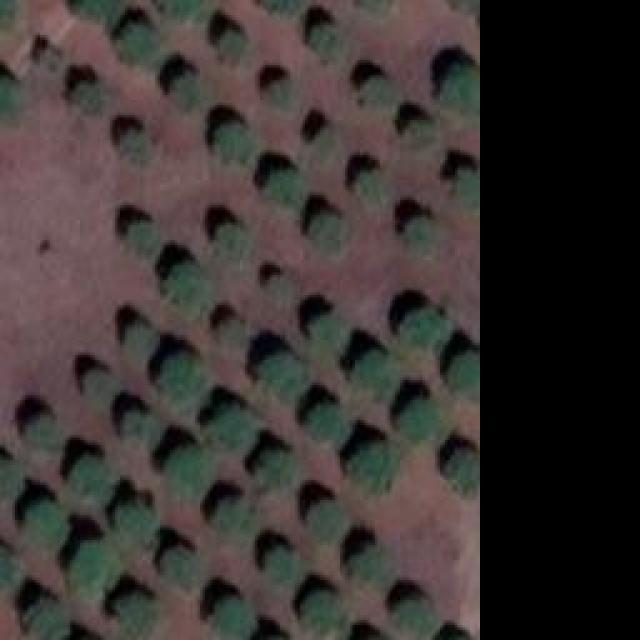Tree: (70, 540, 123, 593), (350, 350, 398, 398), (163, 353, 206, 406), (165, 262, 210, 310), (207, 408, 255, 453), (400, 308, 450, 351), (168, 448, 208, 501), (260, 355, 303, 403), (355, 445, 398, 490), (25, 505, 68, 548), (72, 457, 110, 505), (445, 443, 480, 493), (400, 400, 443, 440), (258, 453, 301, 493), (448, 350, 483, 397), (440, 70, 478, 113), (390, 597, 433, 635), (405, 218, 445, 258), (303, 593, 343, 633), (120, 590, 155, 635), (215, 497, 255, 535), (350, 545, 388, 585), (308, 405, 351, 440), (310, 500, 348, 538), (165, 548, 200, 588), (33, 600, 66, 640), (265, 550, 303, 583), (215, 125, 250, 160), (120, 25, 155, 60), (218, 600, 253, 635), (218, 223, 248, 263), (313, 318, 348, 351), (123, 413, 158, 446), (118, 510, 153, 543), (268, 170, 301, 203), (313, 215, 343, 250), (77, 0, 122, 22), (30, 415, 58, 450), (310, 25, 340, 55), (455, 170, 478, 208), (172, 75, 200, 105), (128, 322, 158, 350), (75, 82, 105, 110), (127, 223, 155, 253), (262, 0, 306, 19), (405, 117, 433, 145), (165, 0, 208, 18), (353, 0, 400, 16), (362, 78, 390, 103), (358, 170, 383, 198), (0, 80, 20, 115), (0, 463, 20, 498), (123, 130, 146, 160), (220, 35, 245, 60), (268, 80, 293, 105), (265, 275, 290, 300), (0, 550, 15, 590), (83, 373, 108, 396), (218, 318, 241, 341), (313, 128, 336, 148), (453, 0, 480, 13), (43, 48, 58, 63)
